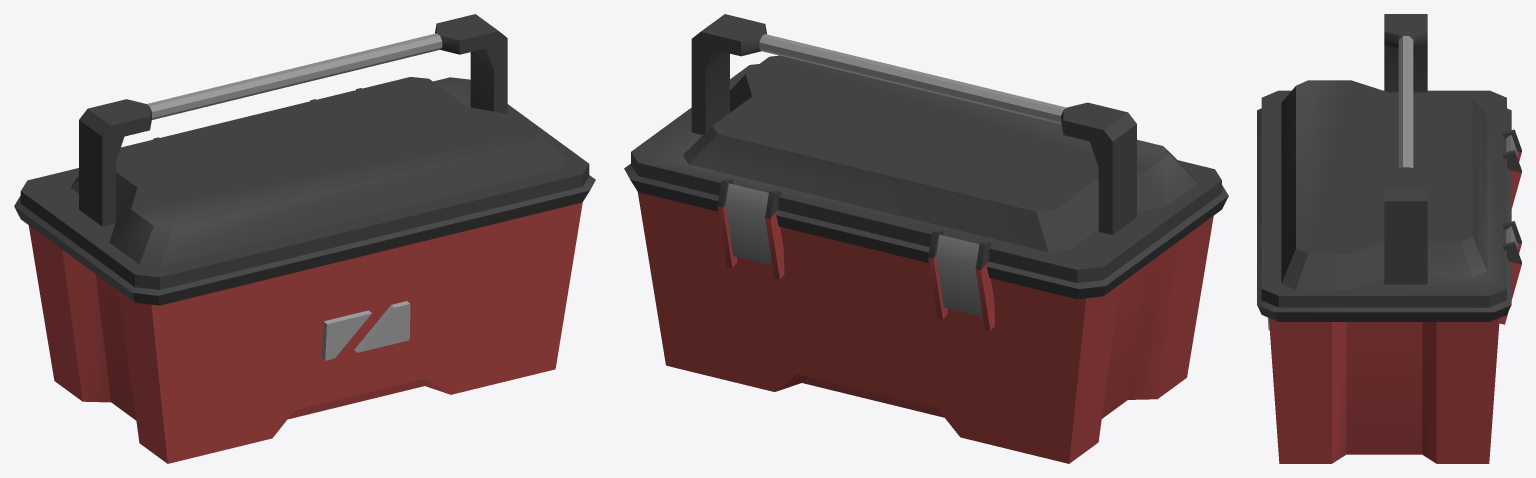
File: ToolCrate1.fbx
3 renders of one model, left to right at view 1: azimuth 30°, elevation 25°; view 2: azimuth 150°, elevation 25°; view 3: azimuth 270°, elevation 25°, orthographic. The views are drawn at different scales.
Parts seen in each view (by area): view 1: isl_ToolCrate_01_Def.obj; view 2: isl_ToolCrate_01_Def.obj; view 3: isl_ToolCrate_01_Def.obj.
Boxes of the visible parts, <box> form: isl_ToolCrate_01_Def.obj: <box>14,14,595,463</box>; isl_ToolCrate_01_Def.obj: <box>624,14,1228,463</box>; isl_ToolCrate_01_Def.obj: <box>1257,14,1521,463</box>.
Bounding box in the file's own units: 42.91 × 26.25 × 22.93.
